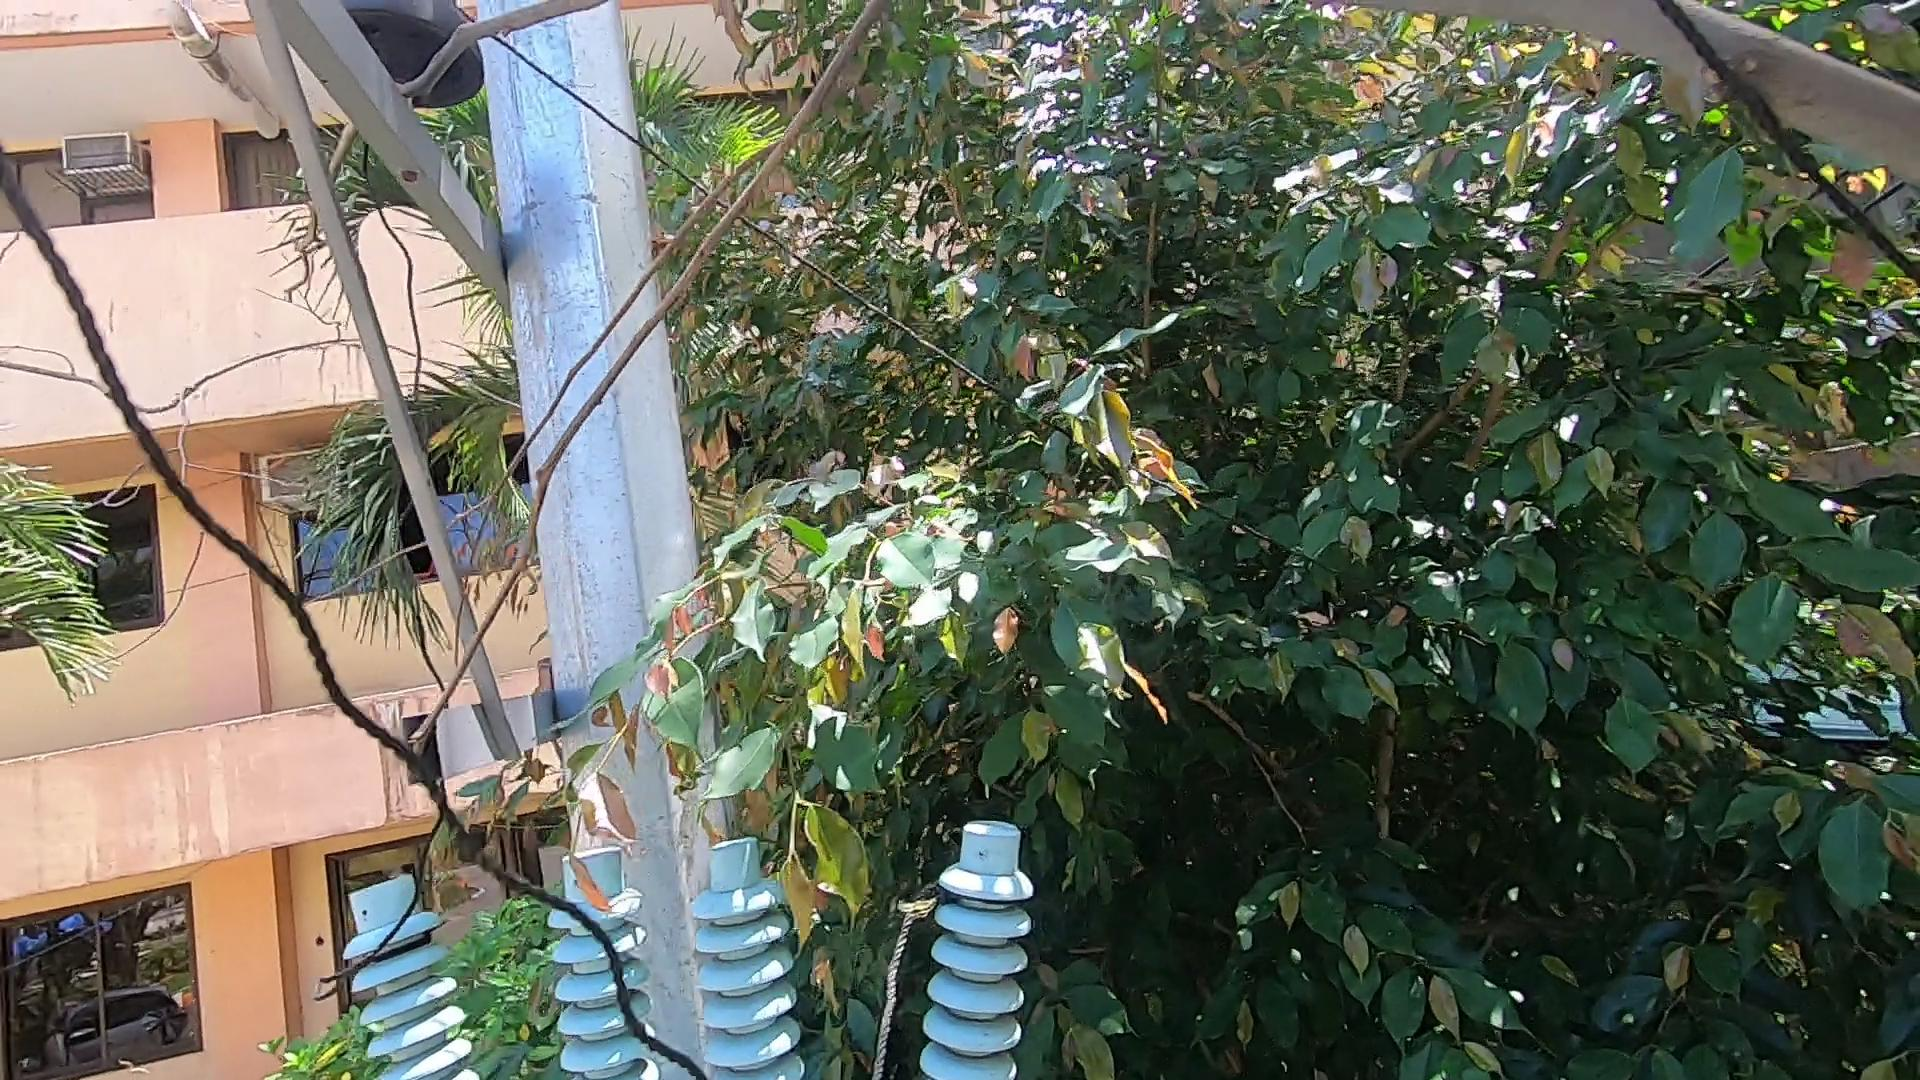branch with leaves: (460, 649, 897, 943)
tree branch: (222, 18, 938, 756)
